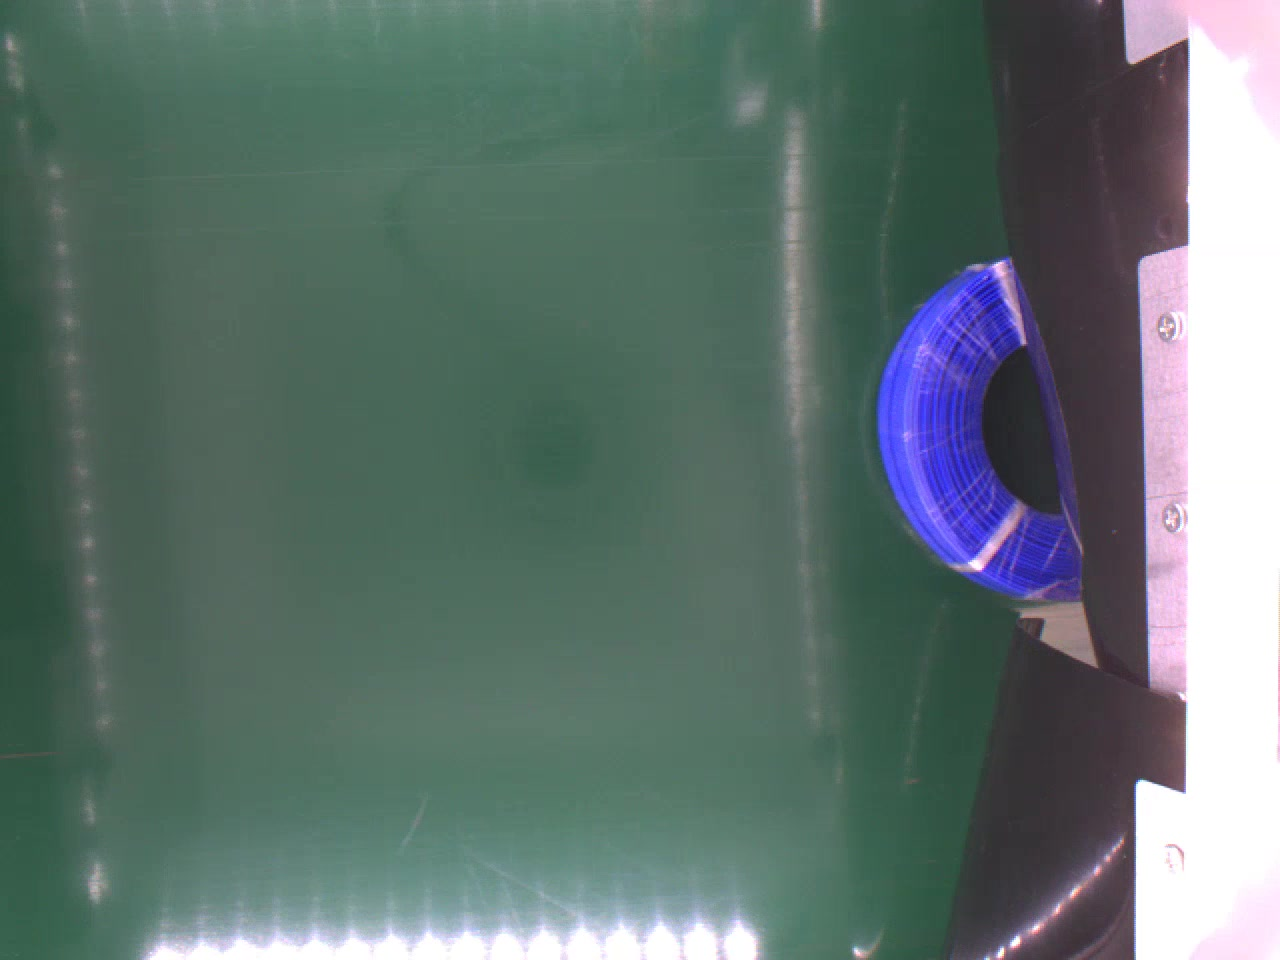blue: (876, 258, 1076, 599)
